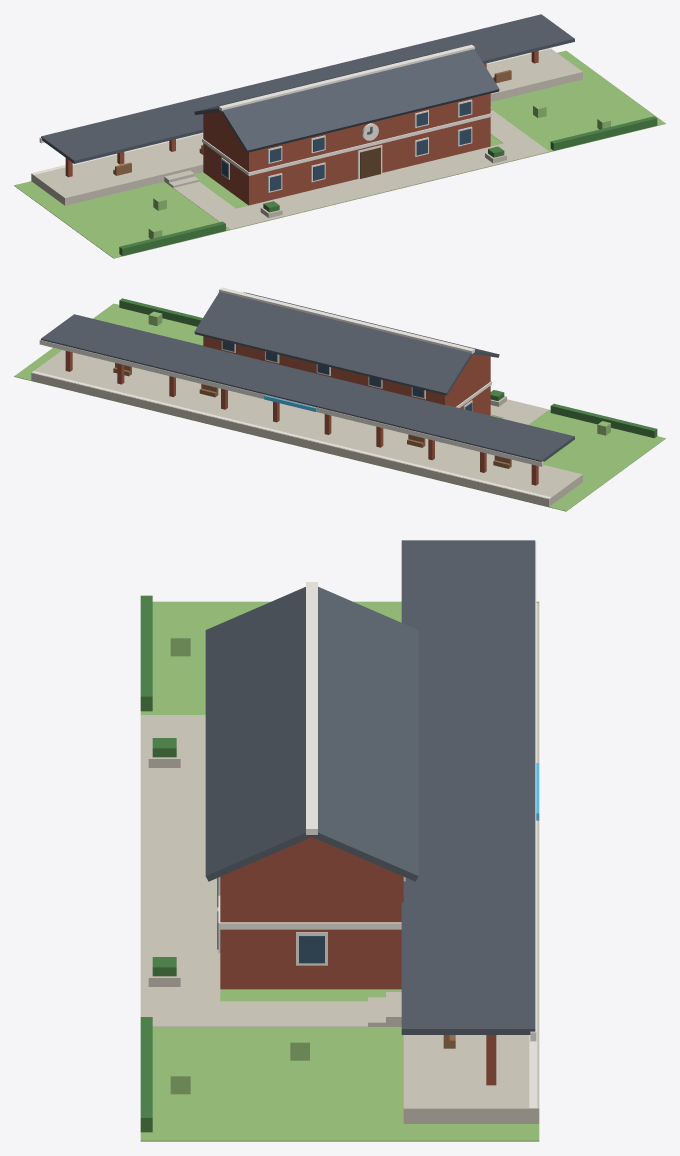
Rendered from station.glb.
The picture shows the model from 3 angles, top to bottom: view 1: azimuth 30°, elevation 25°; view 2: azimuth 150°, elevation 25°; view 3: azimuth 270°, elevation 25°; orthographic projection. The views are drawn at different scales.
Parts seen in each view (by area): view 1: lawn, roof (×2), booking_hall, canopy, platform, forecourt, path (×2), hedge (×2), ridge, string_course, door, platform_edge; view 2: platform, canopy, roof (×2), lawn, booking_hall, canopy_fascia, hedge (×2), platform_edge, ridge, path, forecourt; view 3: canopy, roof (×2), lawn, booking_hall, forecourt, platform, path (×2), ridge, hedge (×2), hall_gable, string_course, platform_edge (+1 smaller).
Boxes of the visible parts, <box> form: lawn: <box>14,50,665,258</box>; roof (×2): <box>194,49,499,152</box>; booking_hall: <box>203,93,490,205</box>; canopy: <box>41,14,574,163</box>; platform: <box>31,49,582,205</box>; forecourt: <box>232,142,527,224</box>; path (×2): <box>167,110,549,229</box>; hedge (×2): <box>119,116,657,255</box>; ridge: <box>219,44,474,111</box>; string_course: <box>202,113,491,175</box>; door: <box>360,147,380,178</box>; platform_edge: <box>32,48,551,174</box>; platform: <box>31,350,582,506</box>; canopy: <box>41,314,574,461</box>; roof (×2): <box>194,291,499,395</box>; lawn: <box>14,303,665,511</box>; booking_hall: <box>203,336,490,415</box>; canopy_fascia: <box>39,339,543,466</box>; hedge (×2): <box>119,298,657,438</box>; platform_edge: <box>32,371,551,498</box>; ridge: <box>219,287,474,354</box>; path: <box>503,404,549,424</box>; forecourt: <box>490,399,527,417</box>; canopy: <box>401,540,535,1034</box>; roof (×2): <box>205,586,418,881</box>; lawn: <box>140,601,539,1141</box>; booking_hall: <box>220,871,403,989</box>; forecourt: <box>140,736,220,1005</box>; platform: <box>403,603,539,1123</box>; path (×2): <box>140,715,401,1026</box>; ridge: <box>306,582,317,834</box>; hedge (×2): <box>140,595,152,1132</box>; hall_gable: <box>232,837,391,871</box>; string_course: <box>218,895,401,929</box>; platform_edge: <box>529,603,537,1108</box>.
Bounding box in the file's own units: 64 × 9.23 × 20.
